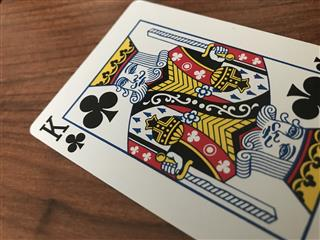KingOfClubs: (27, 1, 320, 240)
